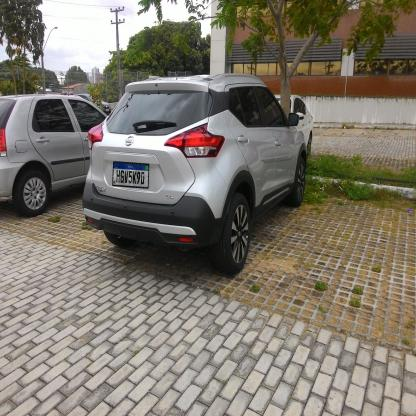PlacaM: (112, 161, 150, 189)
